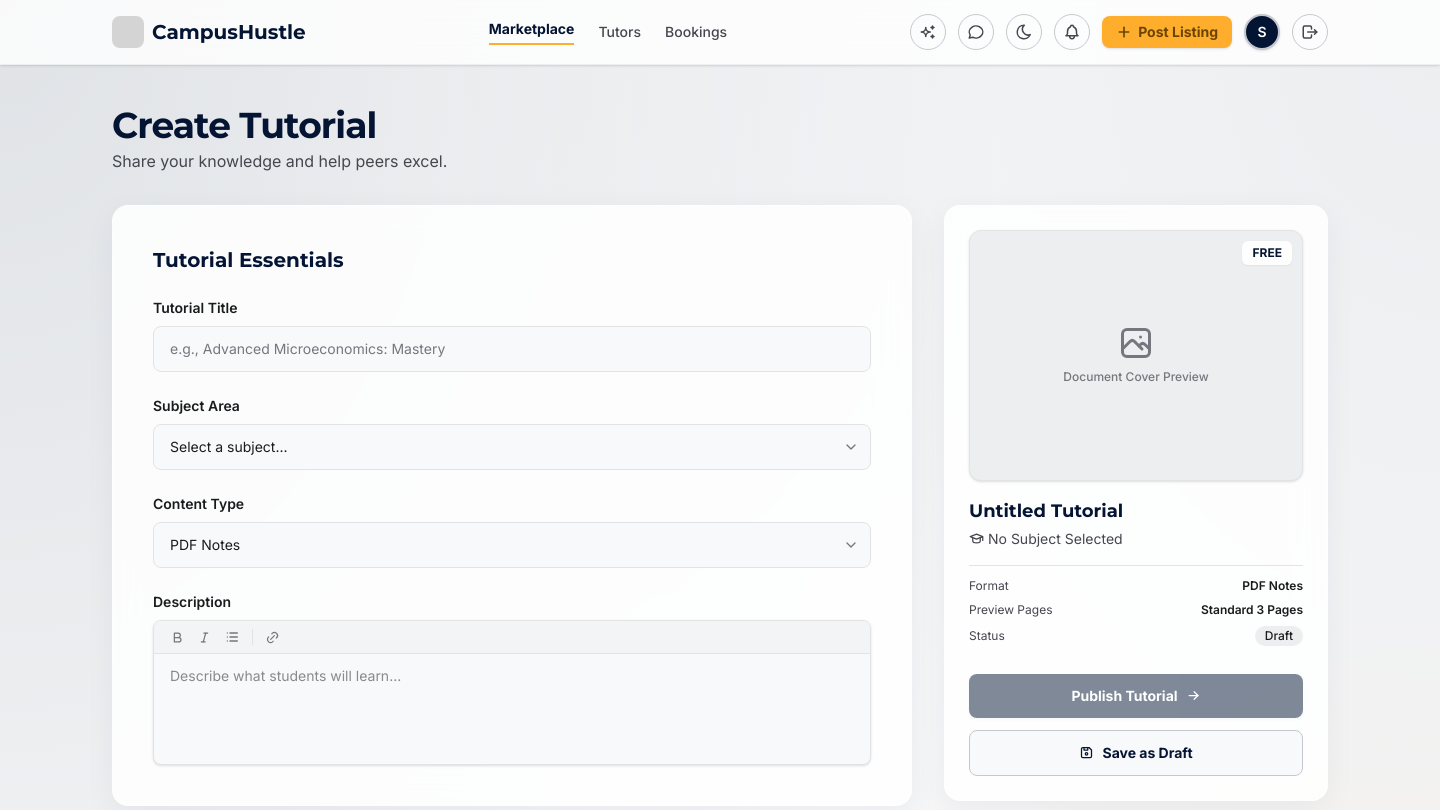
Test: PostListingPage › disables publishing until a title and subject are provided
Expected: the button "Publish Tutorial" is disabled, [969,674,1303,718]
Type "Linear Algebra Crash" into the field labelled "Tutorial Title".
click(512, 349); type("Linear Algebra Crash")  # box [153,326,871,372]
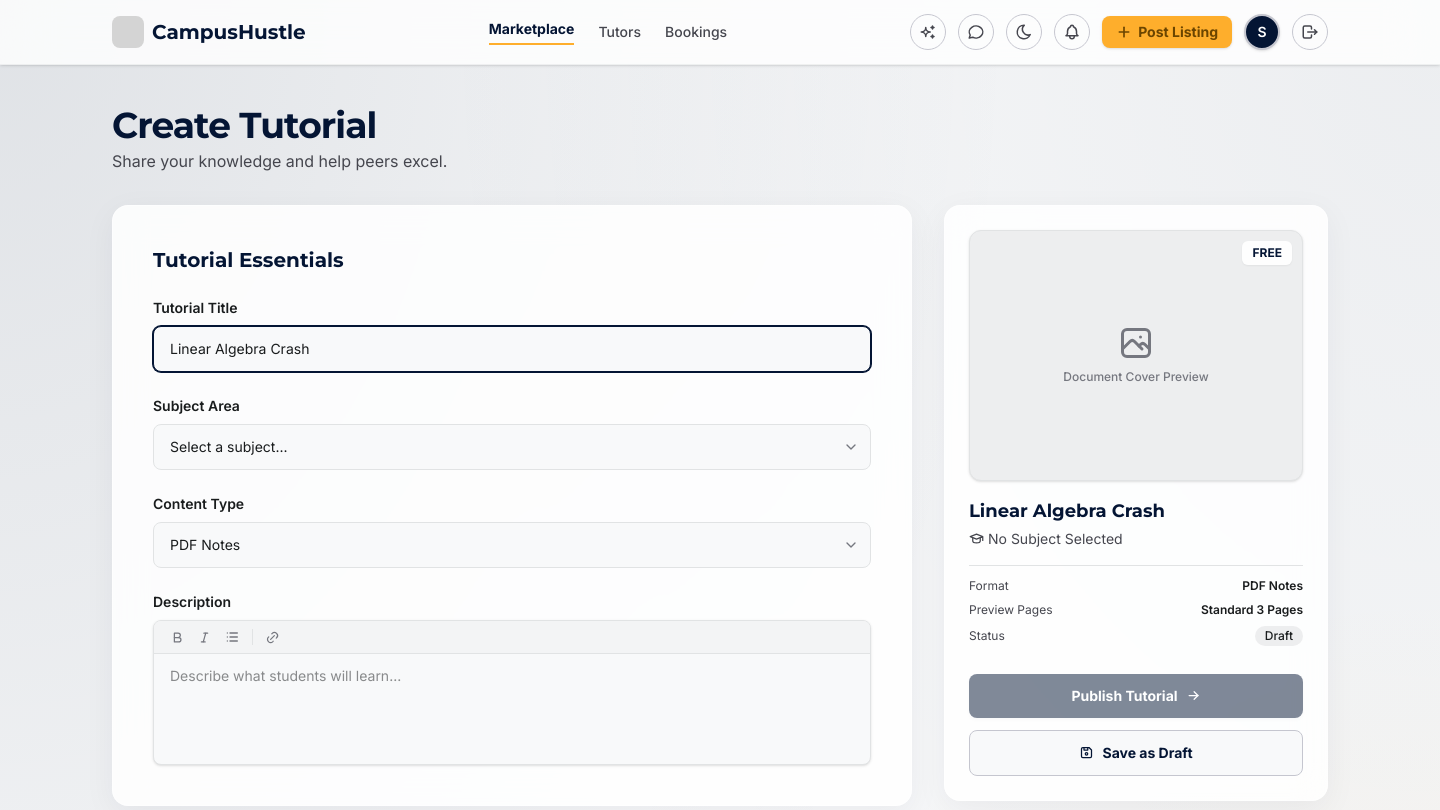
Expected: the button "Publish Tutorial" is disabled, [969,674,1303,718]
Select "Mathematics" in the dropdown labelled "Subject Area" at (512, 447), box [153,424,871,470]
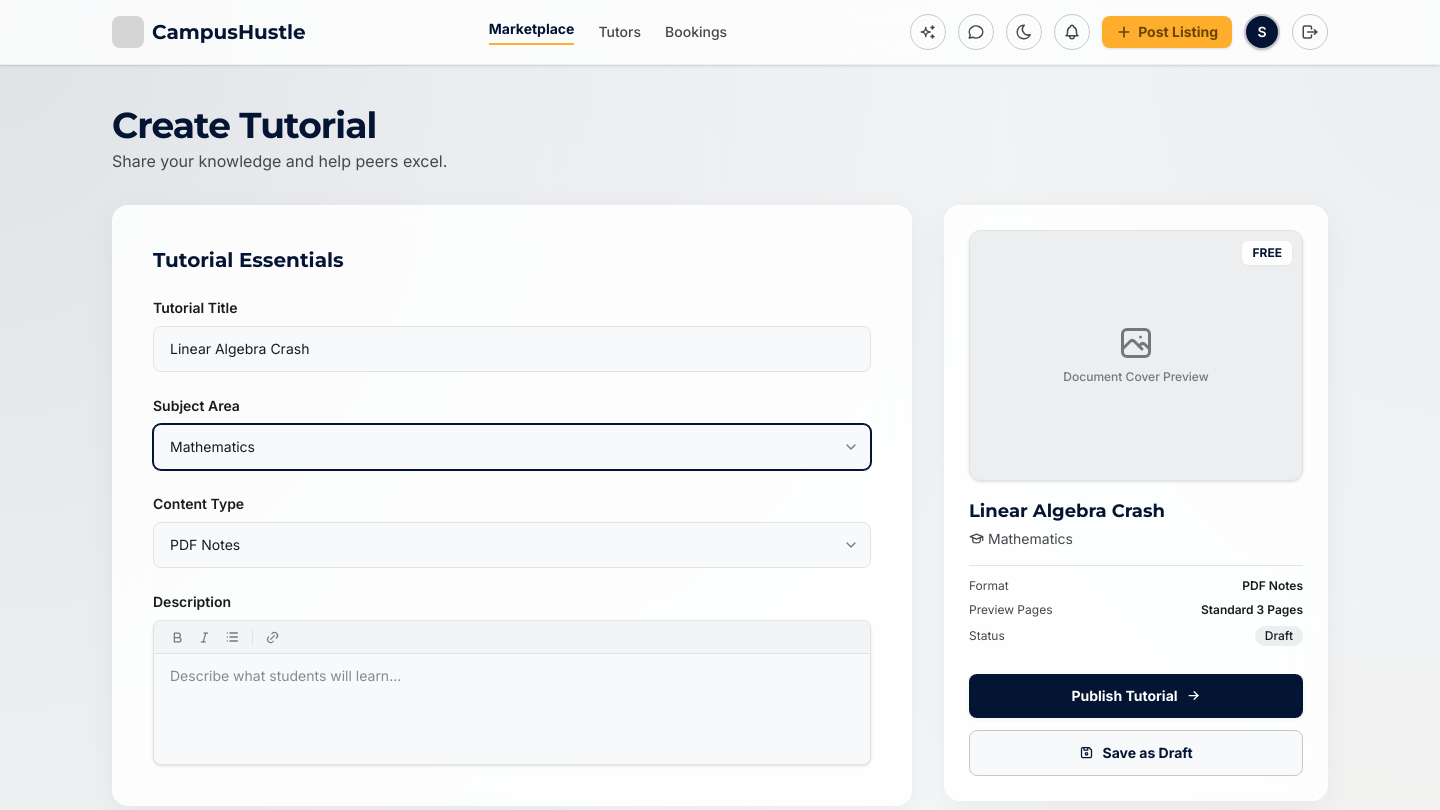
Result: the button "Publish Tutorial" is enabled at [969,674,1303,718]
